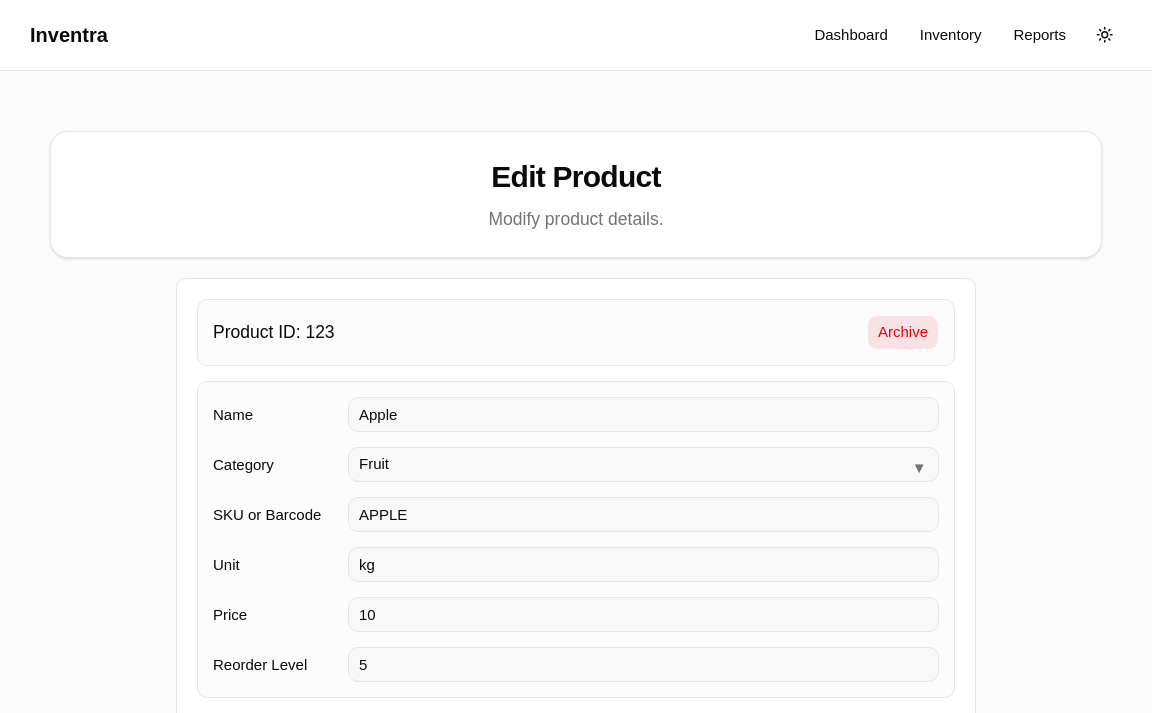
it: Product Edit Page Tests › loads route param and shows edit mode with id
Click the dropdown named "category": [374, 464] box 348,447 -> 939,482
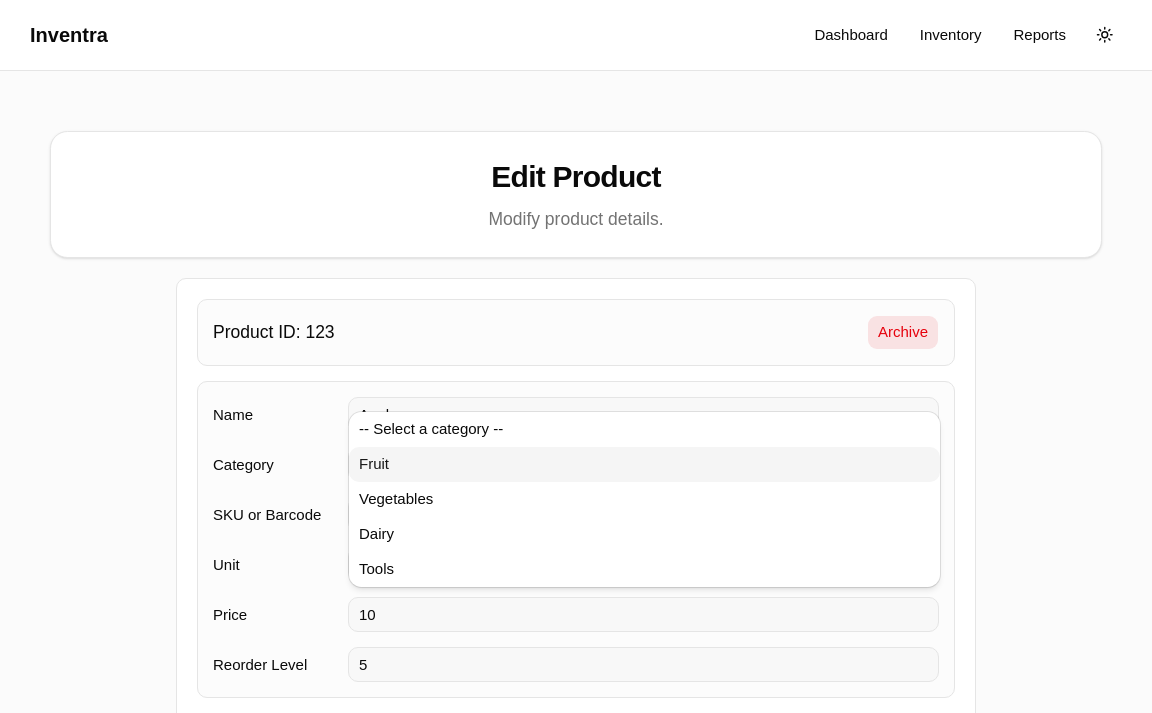
Expected: the text "Product ID: 123" is shown, 213,320 -> 335,345
Expected: the option "Fruit" is shown, 349,447 -> 940,482
